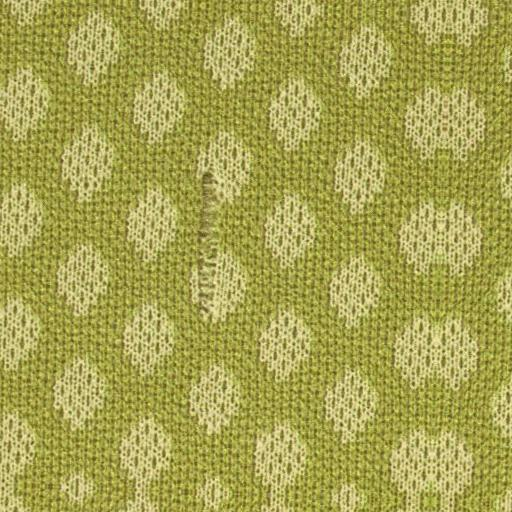slub: (195, 164, 232, 315)
